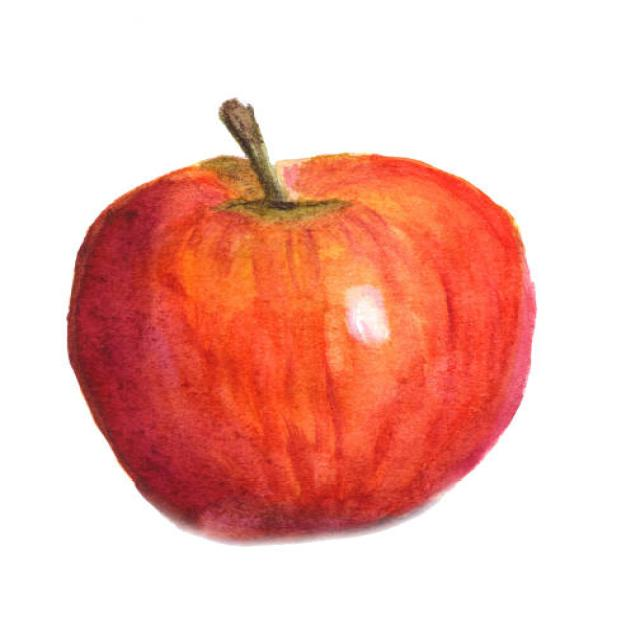overripe: (64, 145, 538, 542)
